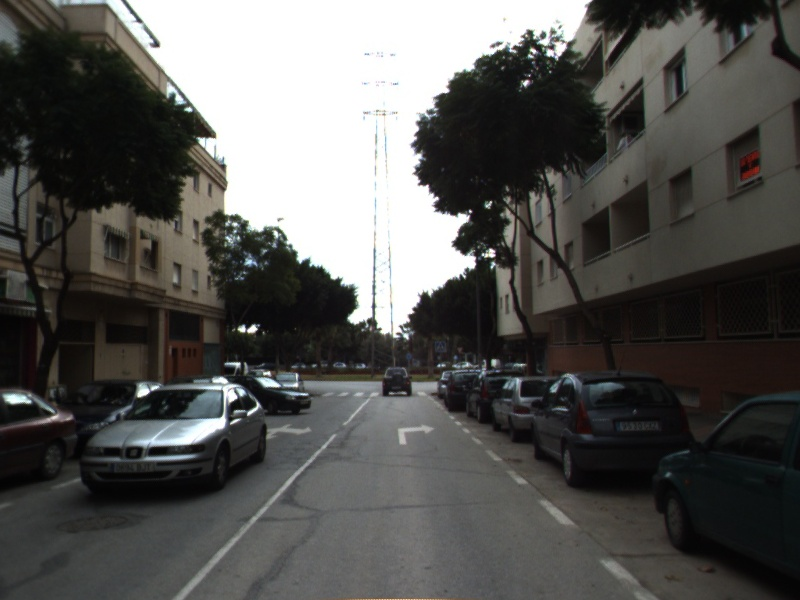RIGHT: (395, 422, 438, 446)
